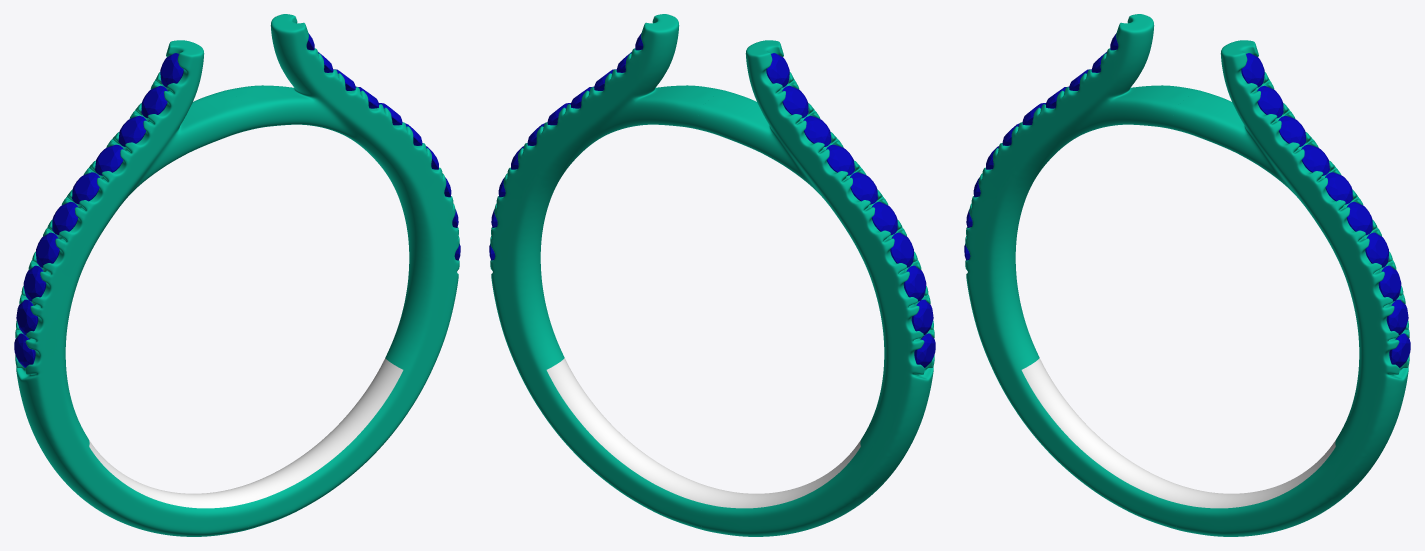
The model's file is ring.glb.
3 renders of one model, left to right at view 1: azimuth 30°, elevation 25°; view 2: azimuth 150°, elevation 25°; view 3: azimuth 330°, elevation 25°, orthographic.
Parts seen in each view (by area): view 1: MTL-SHANK-1 (×4), MTL-ENG-SHANK-1, DIA-RNDHD-B1-2 (×9); view 2: MTL-SHANK-1 (×4), MTL-ENG-SHANK-1, DIA-RNDHD-B1-2 (×9); view 3: MTL-SHANK-1 (×4), MTL-ENG-SHANK-1, DIA-RNDHD-B1-2 (×9).
Part boxes in pixels (box(x1,y1,x2,y2)): MTL-SHANK-1 (×4): box(15, 14, 459, 536); MTL-ENG-SHANK-1: box(89, 358, 403, 508); DIA-RNDHD-B1-2 (×9): box(16, 53, 183, 334); MTL-SHANK-1 (×4): box(490, 14, 934, 536); MTL-ENG-SHANK-1: box(546, 358, 860, 508); DIA-RNDHD-B1-2 (×9): box(766, 53, 933, 334); MTL-SHANK-1 (×4): box(965, 14, 1409, 536); MTL-ENG-SHANK-1: box(1021, 358, 1335, 508); DIA-RNDHD-B1-2 (×9): box(1241, 53, 1408, 334).
Size of the model in its own units: 21.52 by 23.27 by 2.44.
